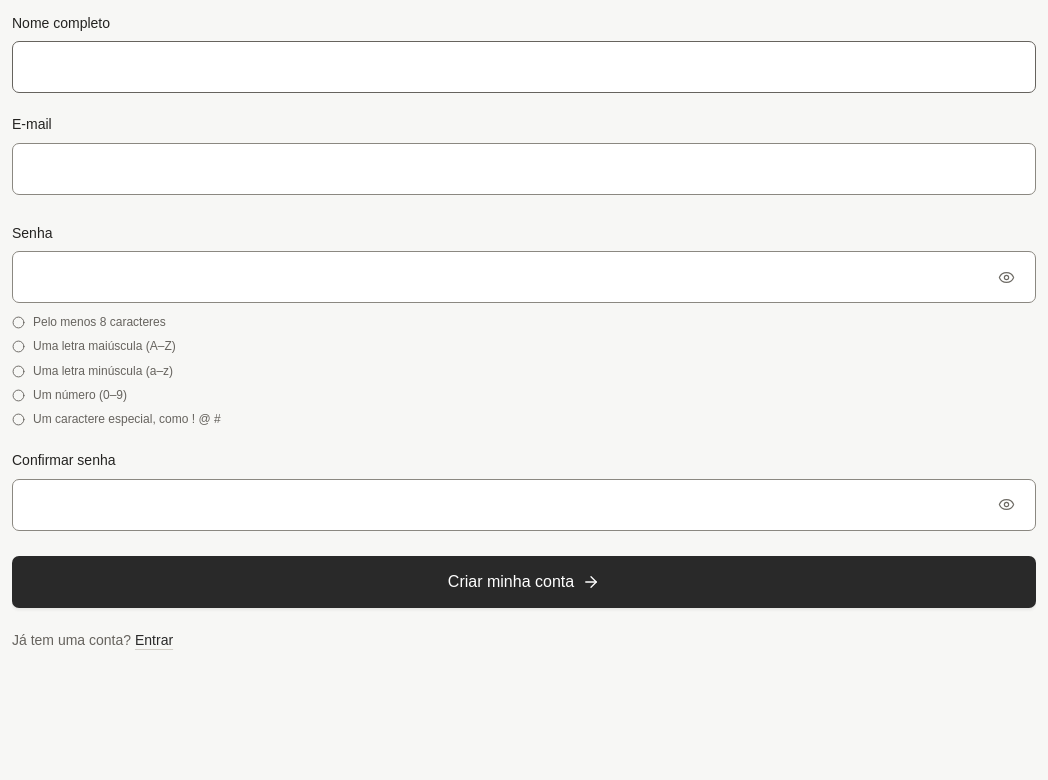
Test: Cadastro público › valida a confirmação de senha antes de enviar
Type "Pessoa Nova" into the field labelled "Nome completo" at (524, 67), box left=12, top=41, right=1036, bottom=93
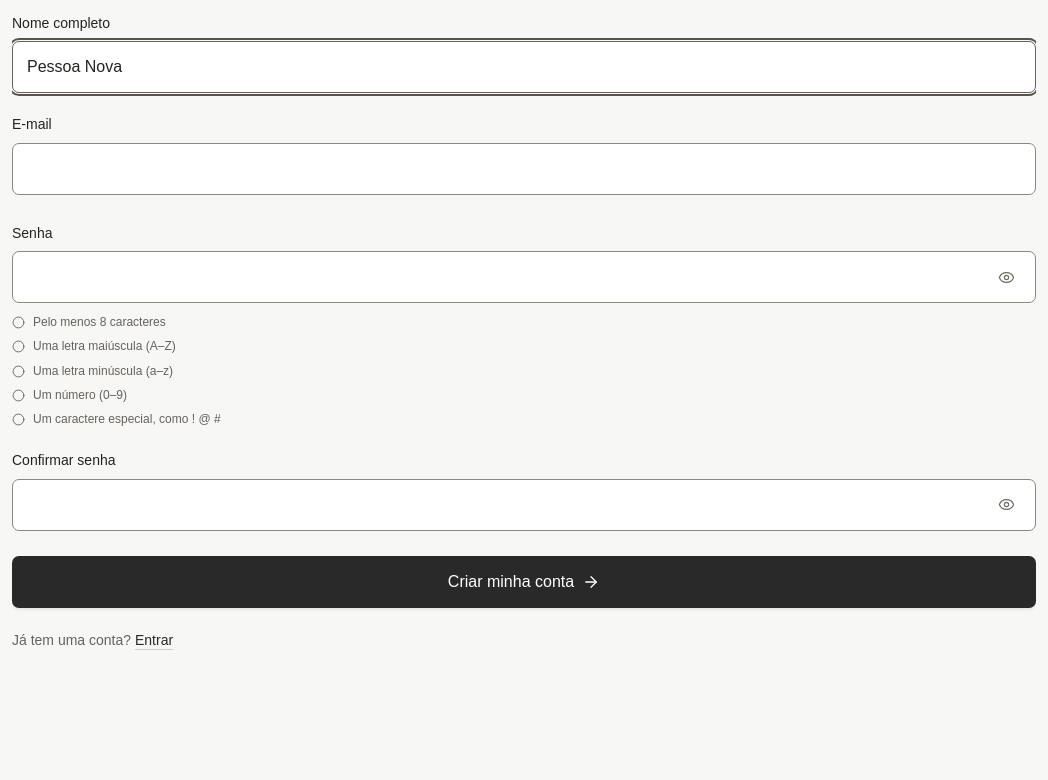
Type "nova@example.test" into the field labelled "E-mail" at (524, 169), box left=12, top=143, right=1036, bottom=195
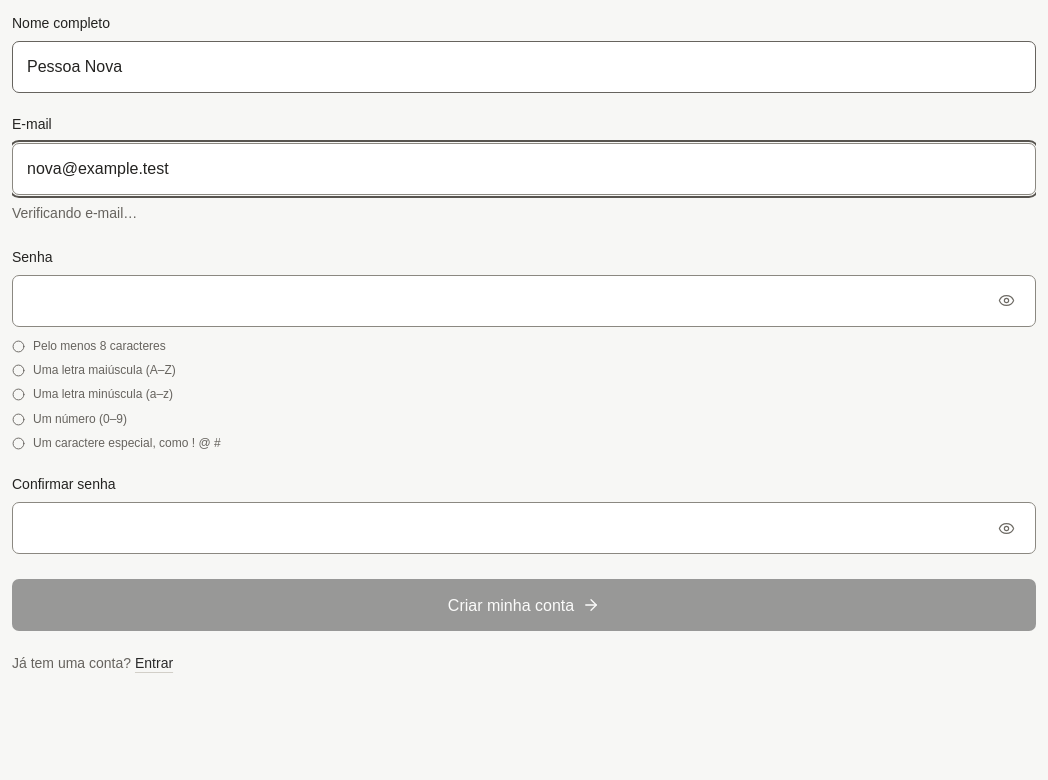
Type "Senha-forte-2026" into the password field labelled "Senha" at (524, 301), box left=12, top=275, right=1036, bottom=327
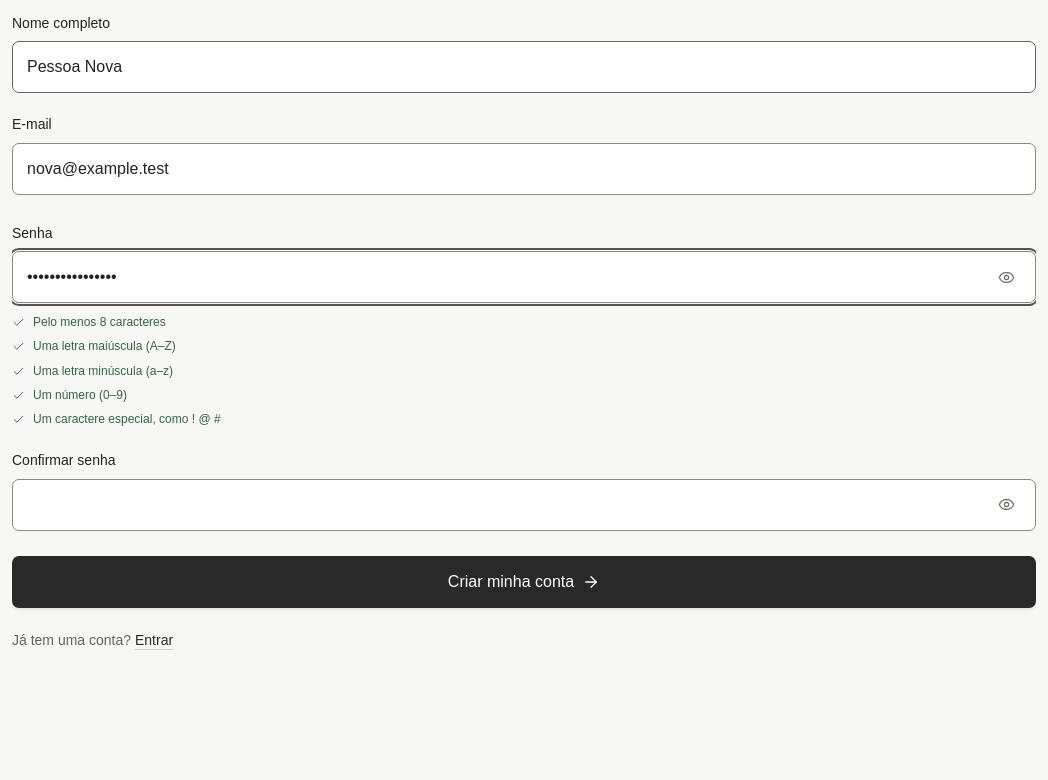
Type "Senha-forte-2026" into the password field labelled "Confirmar senha" at (524, 504), box left=12, top=478, right=1036, bottom=530
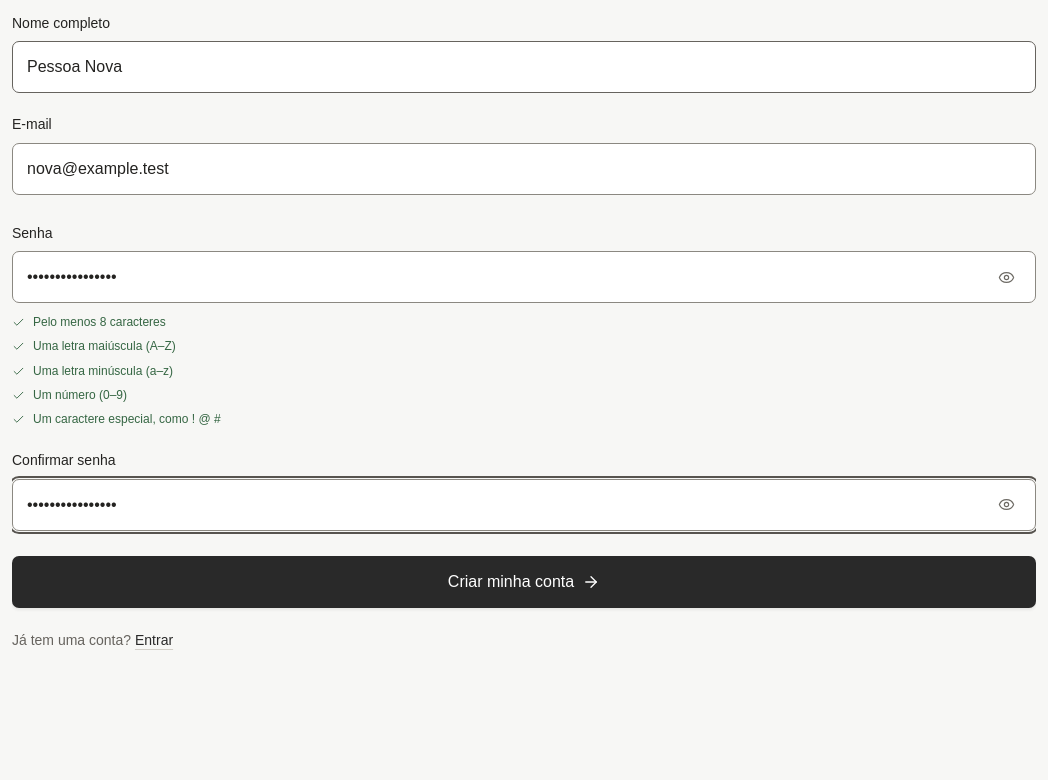
Expected: the button "Criar minha conta" is enabled, left=12, top=556, right=1036, bottom=608
Type "diferente" into the password field labelled "Confirmar senha" at (524, 504), box left=12, top=478, right=1036, bottom=530
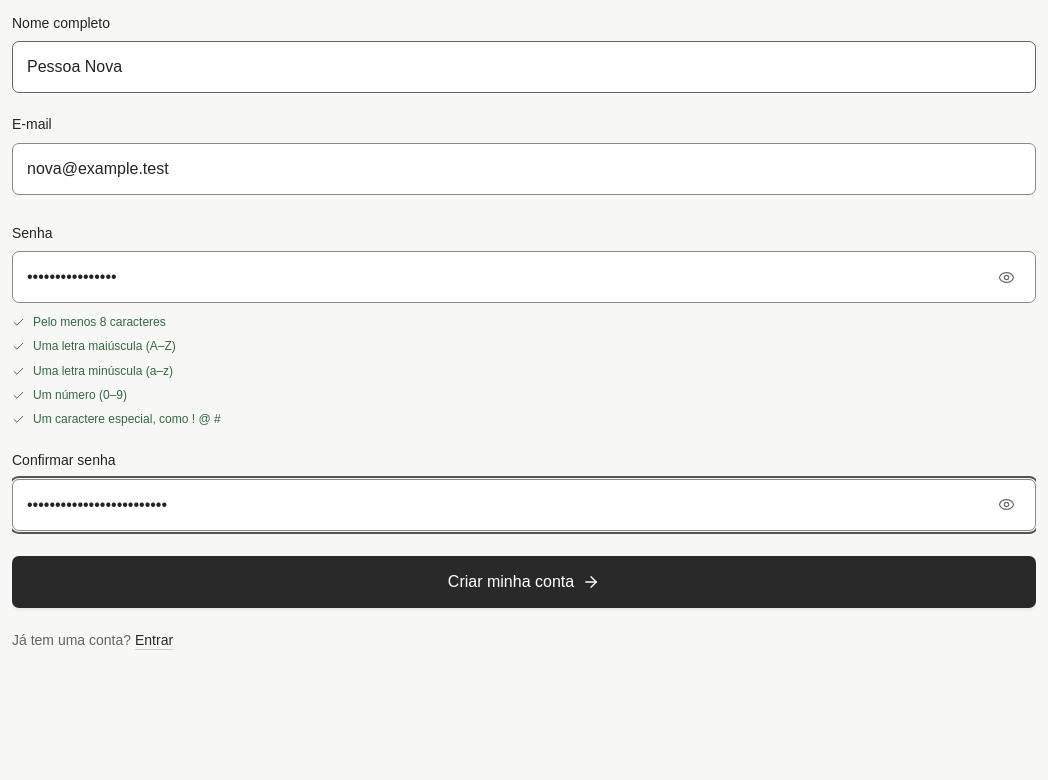
Click the button "Criar minha conta" at (524, 582), box left=12, top=556, right=1036, bottom=608
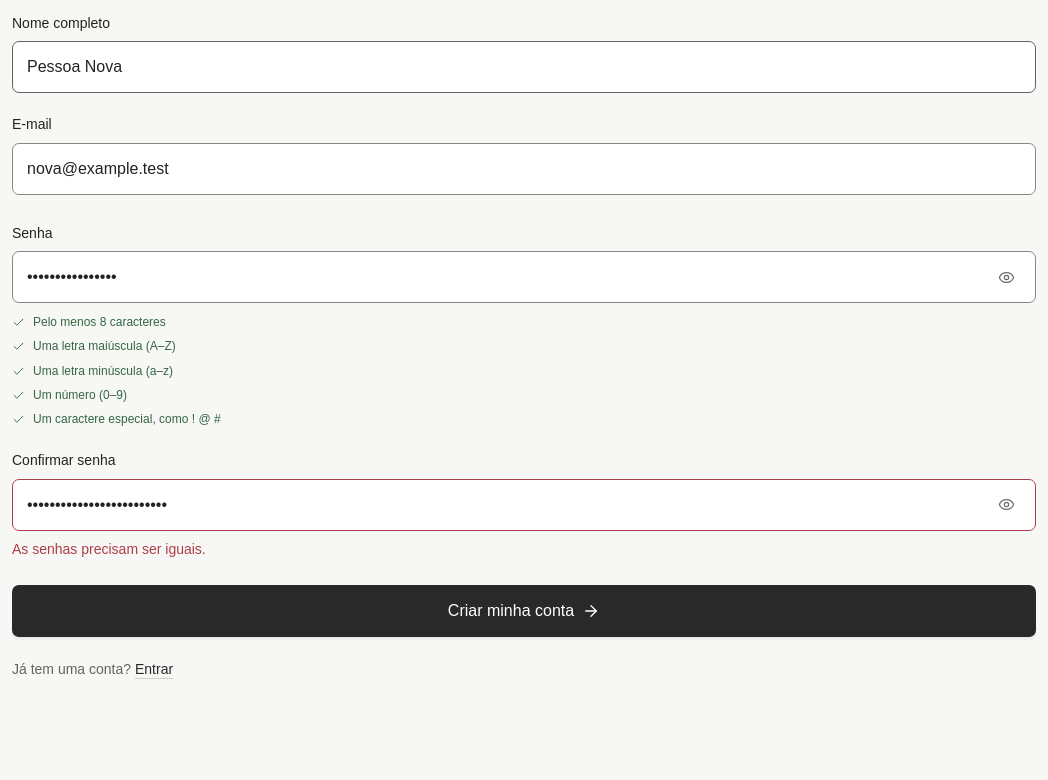
Expected: the text "As senhas precisam ser iguais." is shown, left=12, top=540, right=206, bottom=556
